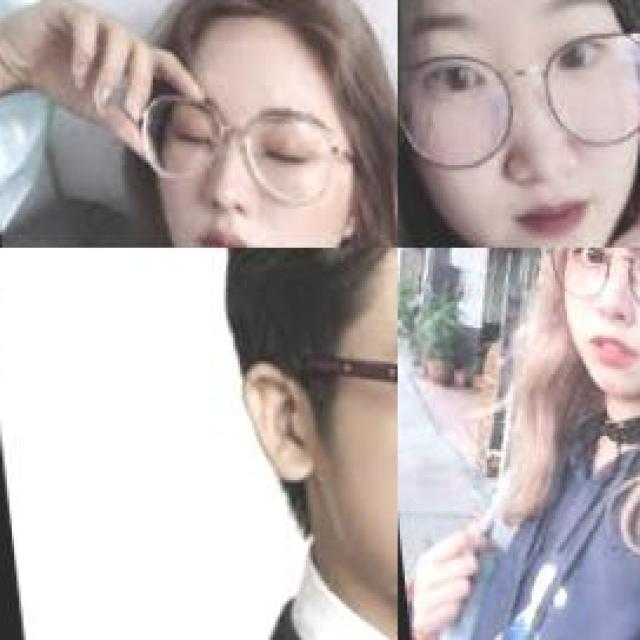Glasses: (397, 25, 640, 175), (127, 85, 360, 206), (313, 330, 395, 475), (539, 248, 640, 322)
